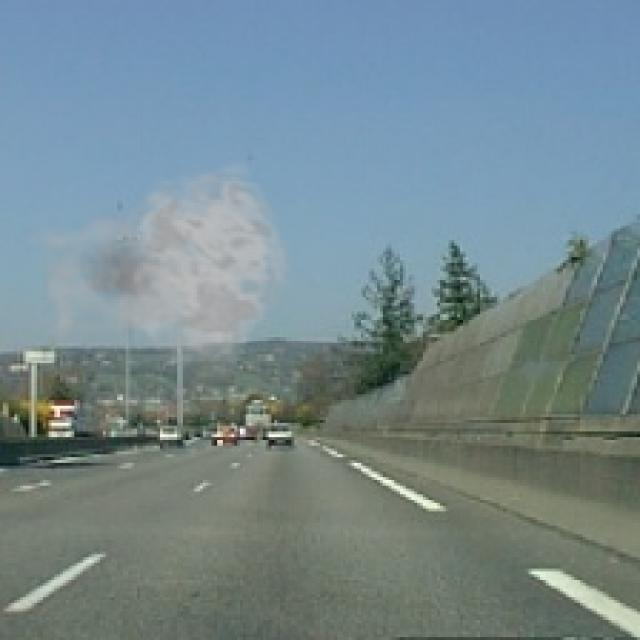smoke: (23, 160, 294, 380)
